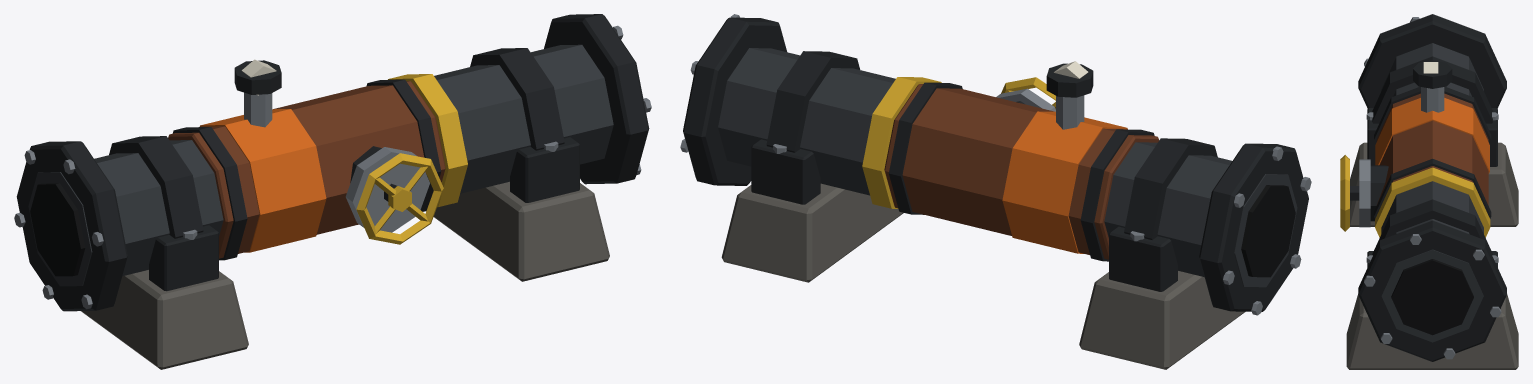
Rendered from desert_pipe.fbx.
The picture shows the model from 3 angles, left to right: view 1: azimuth 30°, elevation 25°; view 2: azimuth 150°, elevation 25°; view 3: azimuth 270°, elevation 25°; orthographic projection. The views are drawn at different scales.
Visible parts, largest first — view 1: Body; view 2: Body; view 3: Body.
Part boxes in pixels (x1,y1,x2,y2): Body: (14, 14, 651, 369); Body: (680, 14, 1311, 369); Body: (1340, 14, 1518, 369).
Size of the model in its own units: 6.3 by 2.54 by 2.16.
Materials: 1 (1 with a texture image).
